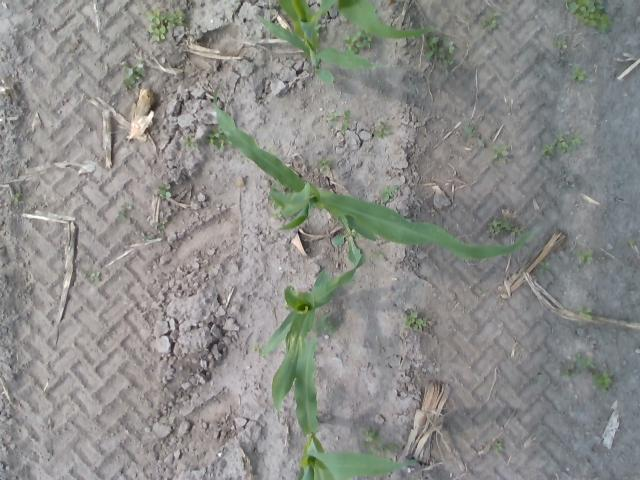Maize: (214, 85, 532, 261), (264, 254, 364, 435), (255, 0, 444, 84), (296, 434, 421, 480)
Weeds: (332, 216, 362, 262), (569, 1, 612, 29), (424, 38, 454, 64), (147, 9, 168, 42), (343, 32, 372, 52), (331, 112, 351, 132), (207, 132, 224, 152), (576, 248, 595, 265), (559, 135, 582, 149), (165, 10, 187, 24), (492, 144, 510, 160), (481, 14, 499, 30), (374, 122, 392, 138), (406, 310, 422, 328), (124, 68, 138, 87), (596, 372, 612, 388), (541, 141, 556, 157), (182, 135, 196, 150), (361, 427, 375, 441), (564, 364, 578, 377), (485, 227, 500, 239), (374, 436, 388, 448), (158, 184, 172, 196), (575, 355, 590, 366), (573, 67, 585, 80), (579, 306, 592, 318), (324, 320, 334, 334), (492, 442, 503, 454), (501, 220, 514, 230), (318, 161, 331, 171), (117, 210, 128, 220), (90, 271, 102, 280), (474, 138, 486, 147), (365, 442, 374, 453), (373, 250, 383, 259), (380, 192, 390, 201), (388, 444, 399, 452), (557, 40, 567, 48), (490, 220, 500, 228), (540, 262, 548, 272), (466, 124, 474, 134), (153, 222, 165, 228), (122, 202, 132, 209), (12, 193, 18, 202), (386, 188, 394, 194), (628, 239, 634, 244)
